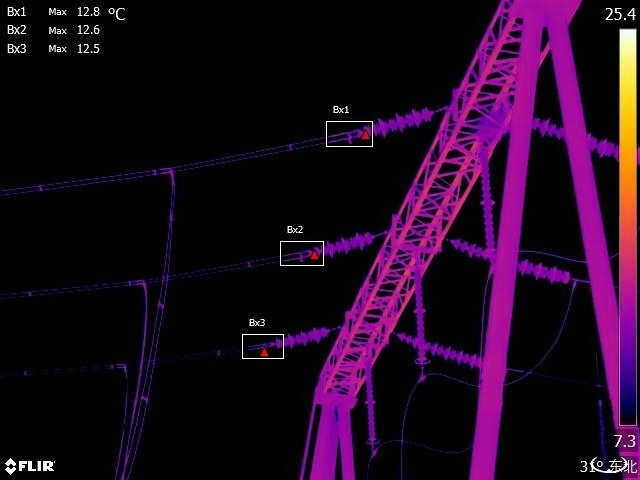clamp: (161, 161, 189, 189), (131, 270, 155, 297), (115, 358, 135, 382)
insulator: (450, 233, 571, 287), (534, 118, 623, 166), (392, 326, 483, 370), (408, 252, 433, 365), (352, 103, 427, 140), (302, 229, 382, 261), (479, 141, 500, 259), (274, 321, 338, 351), (365, 348, 382, 450)
